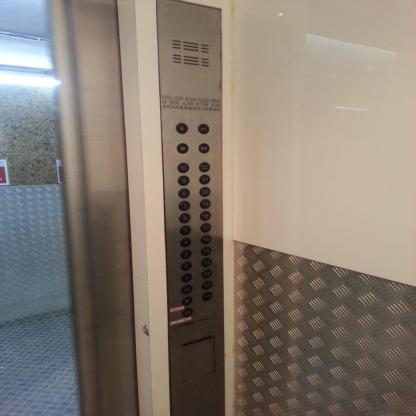1: (181, 272, 192, 282)
10: (176, 162, 190, 173)
11: (201, 291, 213, 301)
12: (202, 280, 212, 290)
13: (201, 270, 212, 278)
14: (201, 257, 212, 267)
15: (200, 246, 212, 256)
16: (200, 235, 211, 244)
17: (200, 223, 211, 232)
18: (200, 210, 210, 220)
19: (199, 198, 211, 208)
2: (180, 261, 192, 271)
20: (199, 186, 210, 196)
21: (199, 174, 210, 184)
22: (198, 162, 210, 172)
3: (180, 249, 191, 259)
4: (180, 237, 191, 247)
5: (179, 225, 191, 235)
6: (178, 213, 190, 223)
7: (178, 200, 190, 210)
8: (178, 188, 190, 199)
9: (178, 175, 190, 186)
B: (181, 296, 193, 306)
B1: (182, 308, 193, 317)
G: (181, 285, 192, 294)
alarm: (176, 122, 188, 134)
call: (198, 123, 209, 134)
close: (198, 143, 209, 153)
open: (176, 143, 188, 154)
